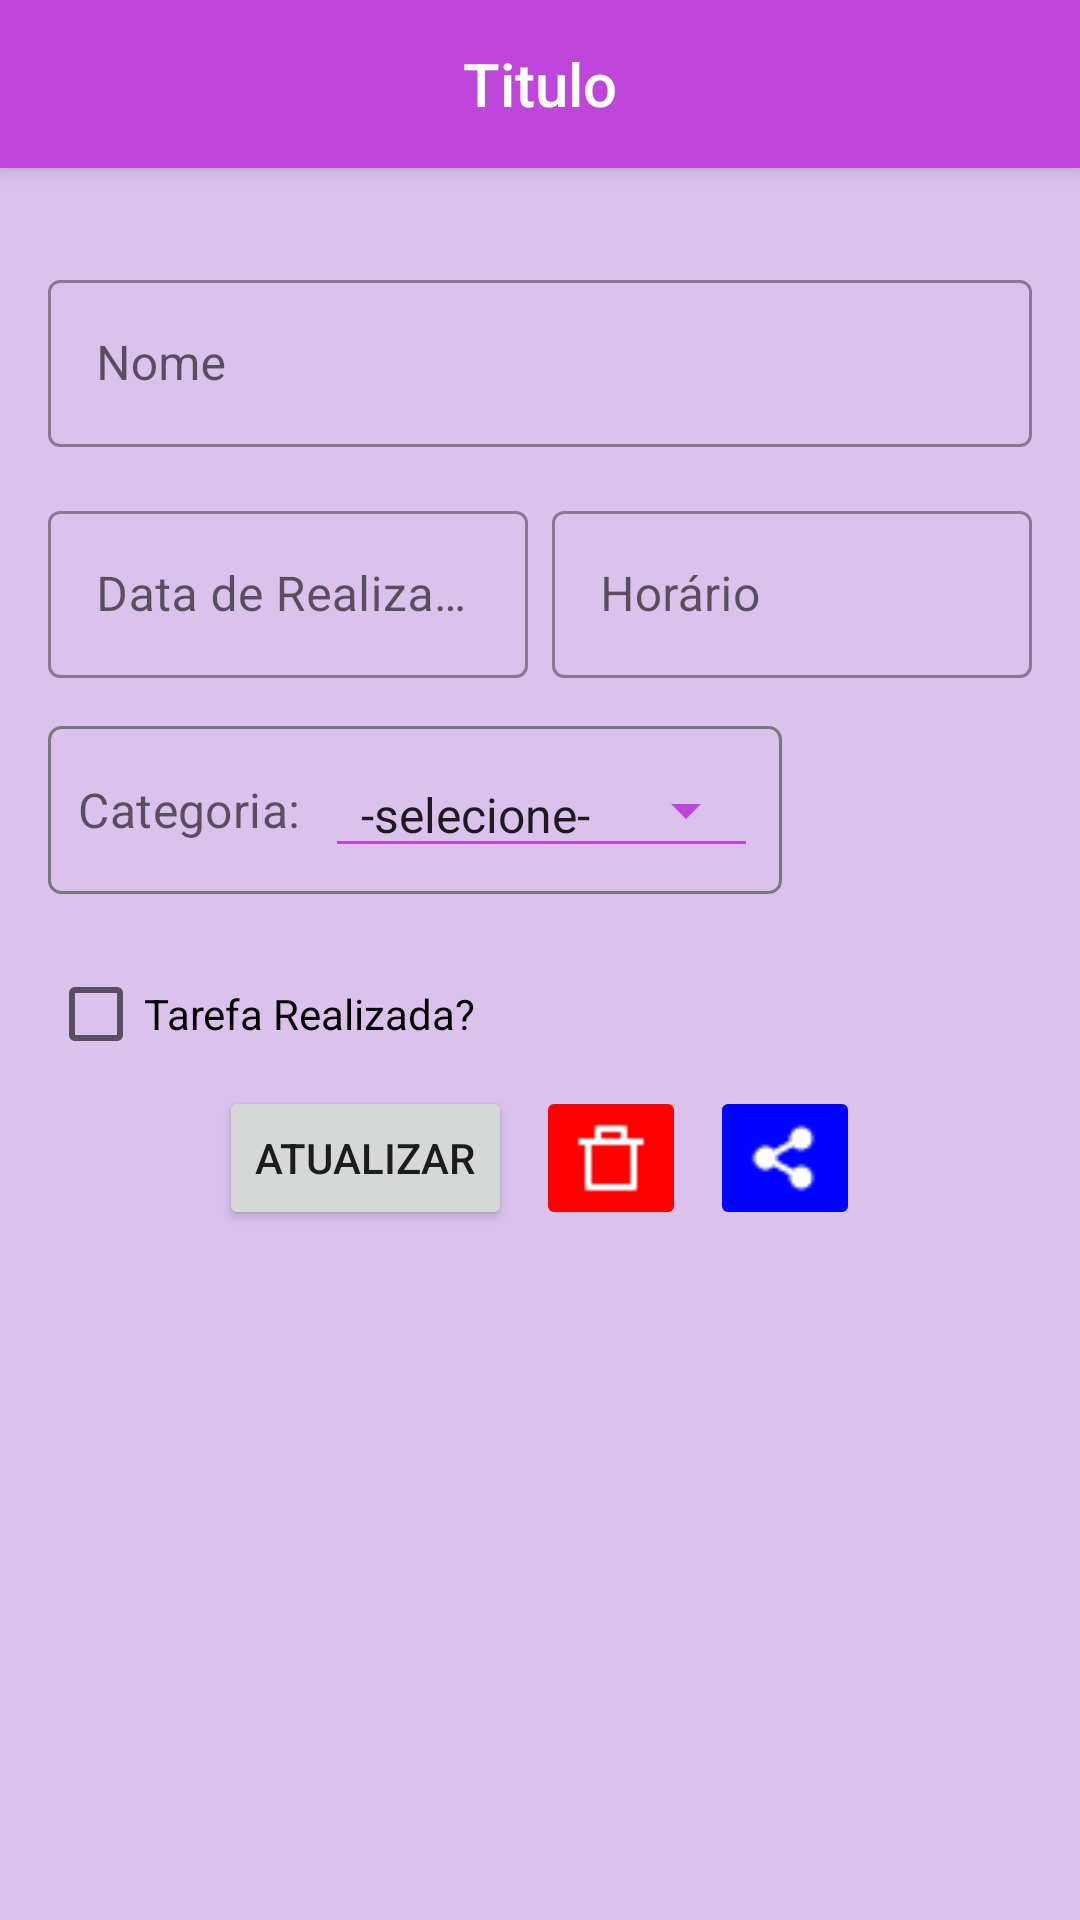

Icons on this 1080 × 1920 Android screen, each with its box as (x1, y1, x2, y2):
delete: (548, 1104, 674, 1212)
share: (722, 1104, 848, 1212)
